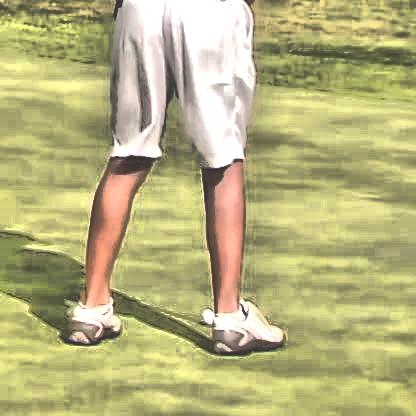golfball: (202, 302, 212, 320)
